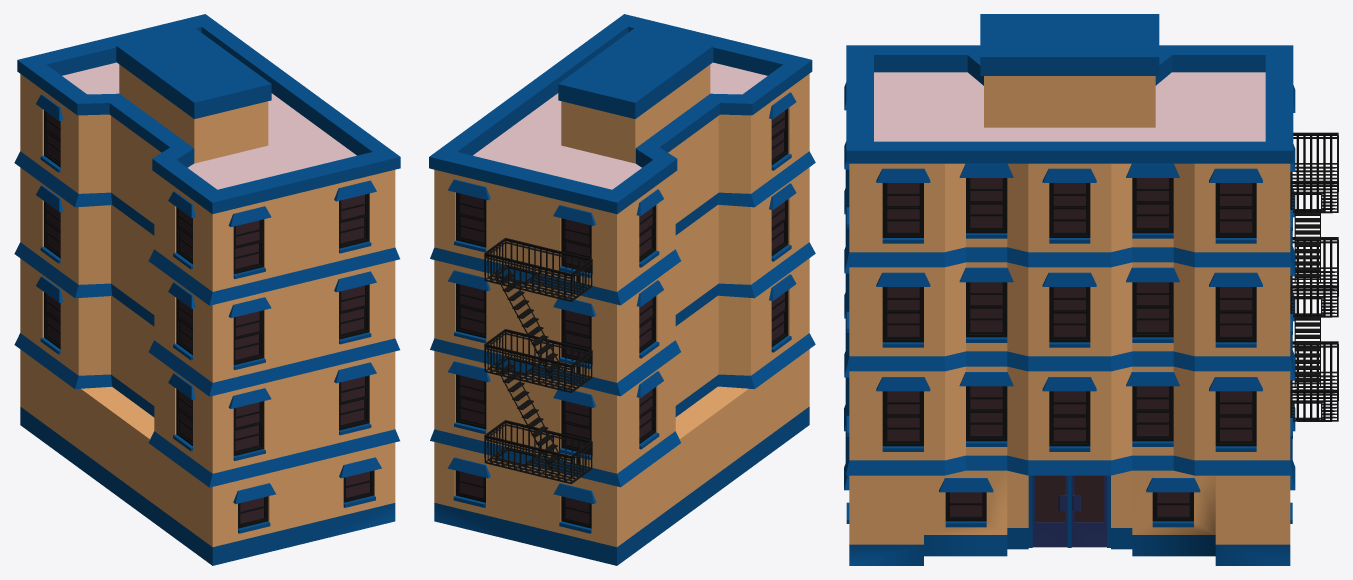
File: SM_Building_Appartment_C.fbx
The picture shows the model from 3 angles, left to right: view 1: azimuth 30°, elevation 25°; view 2: azimuth 150°, elevation 25°; view 3: azimuth 270°, elevation 25°; orthographic projection. The views are drawn at different scales.
Parts seen in each view (by area): view 1: PublicBuilding_9; view 2: PublicBuilding_9; view 3: PublicBuilding_9.
Boxes of the visible parts, box(x1,y1,x2,y2) form: PublicBuilding_9: box(14, 14, 400, 565); PublicBuilding_9: box(429, 14, 815, 565); PublicBuilding_9: box(844, 14, 1338, 565).
Size of the model in its own units: 351 by 721 by 686.
1 material, 1 textured.
